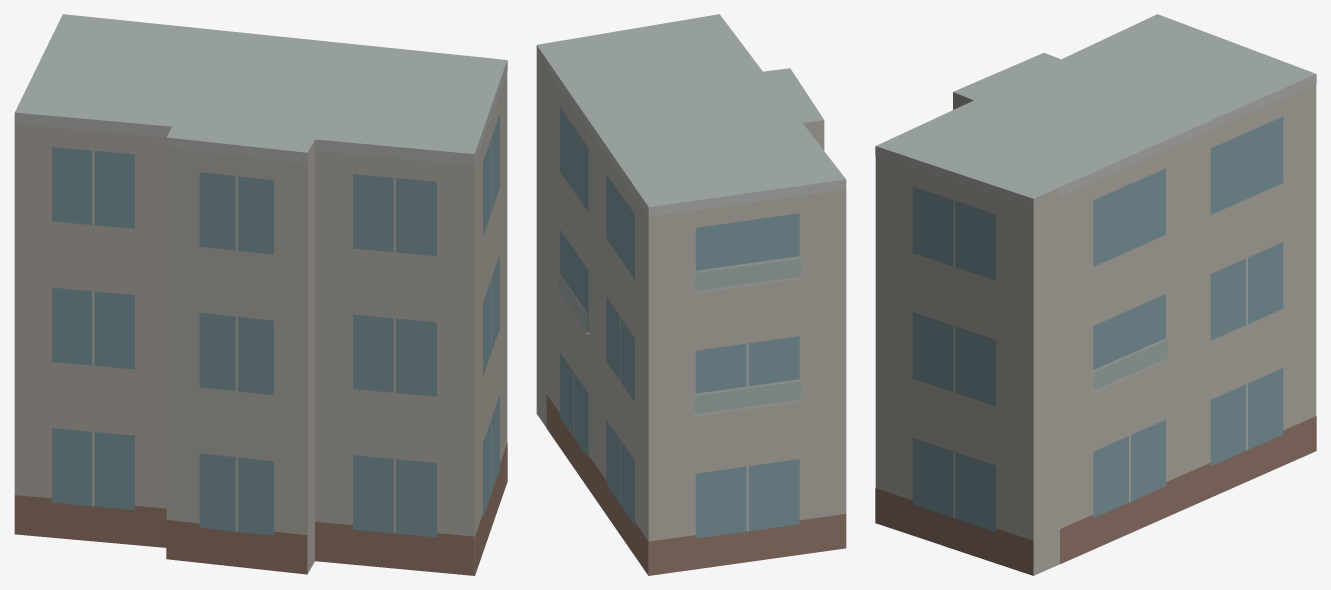
The model's file is survey-upis-32495843.glb.
The picture shows the model from 3 angles, left to right: view 1: azimuth 30°, elevation 25°; view 2: azimuth 150°, elevation 25°; view 3: azimuth 270°, elevation 25°; orthographic projection. The views are drawn at different scales.
Parts seen in each view (by area): view 1: survey-upis-32495843.tmp; view 2: survey-upis-32495843.tmp; view 3: survey-upis-32495843.tmp.
Part boxes in pixels (box(x1,y1,x2,y2)): survey-upis-32495843.tmp: box(14, 14, 507, 575); survey-upis-32495843.tmp: box(536, 14, 846, 575); survey-upis-32495843.tmp: box(875, 14, 1316, 575).
Size of the model in its own units: 9.62 by 9.15 by 9.7.
